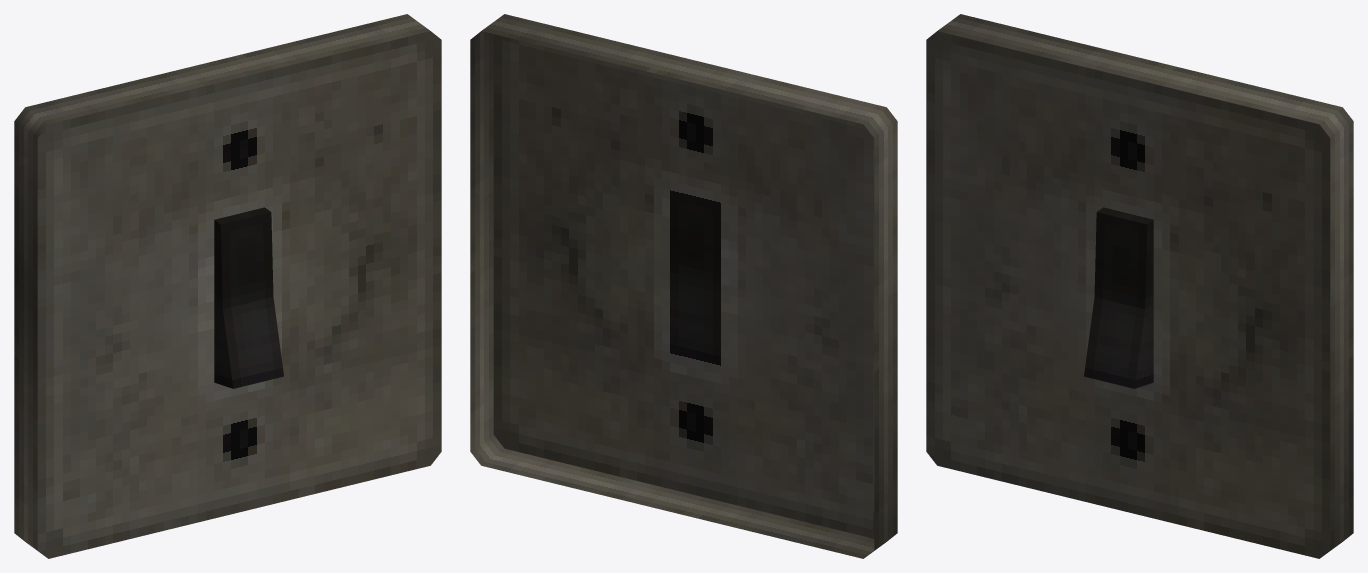
Rendered from LightSwitch1.glb.
3 renders of one model, left to right at view 1: azimuth 30°, elevation 25°; view 2: azimuth 150°, elevation 25°; view 3: azimuth 330°, elevation 25°, orthographic.
Visible parts, largest first — view 1: light_switch_1; view 2: light_switch_1; view 3: light_switch_1.
Boxes of the visible parts, x1,y1,x2,y2 form: light_switch_1: (14,14,441,558); light_switch_1: (470,14,897,558); light_switch_1: (926,14,1353,558).
Size of the model in its own units: 0.11 by 0.113 by 0.02.
1 material, 1 textured.
